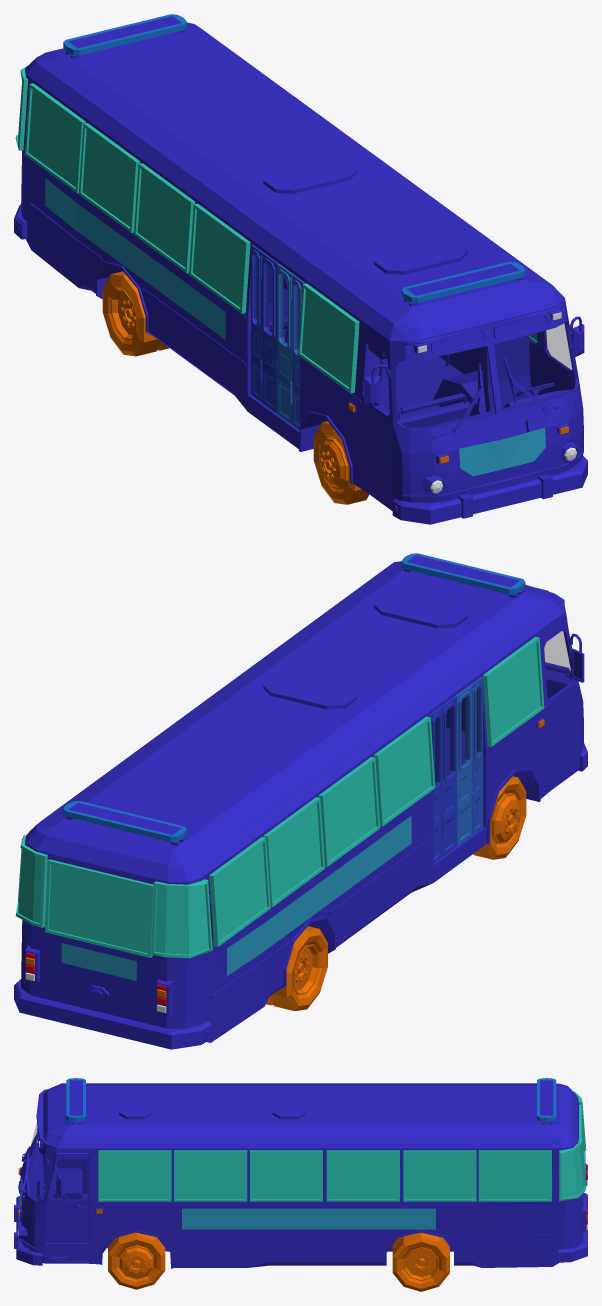
File: SM_prison_bus.fbx
3 views of the same model, one above another, from view 1: azimuth 30°, elevation 25°; view 2: azimuth 150°, elevation 25°; view 3: azimuth 270°, elevation 25° (orthographic). The views are drawn at different scales.
Visible parts, largest first — view 1: bus, Cylinder, Cloner_2, Cloner_1, Cylinder_9, Cylinder_7; view 2: bus, Cylinder, Cloner_2, Cylinder_9, Cloner_1, Cylinder_7; view 3: bus, Cloner_2, Cloner.
Part boxes in pixels (x1,y1,x2,y2): bus: (14,14,587,524); Cylinder: (276,263,304,429); Cloner_2: (102,271,169,356); Cloner_1: (313,421,369,504); Cylinder_9: (260,252,278,413); Cylinder_7: (250,244,263,402); bus: (14,553,587,1049); Cylinder: (455,677,483,845); Cloner_2: (266,926,327,1011); Cylinder_9: (440,696,457,856); Cloner_1: (473,776,526,859); Cylinder_7: (429,707,442,862); bus: (14,1078,587,1268); Cloner_2: (392,1232,449,1291); Cloner: (108,1232,165,1289).
Size of the model in its own units: 265 by 270 by 863.
